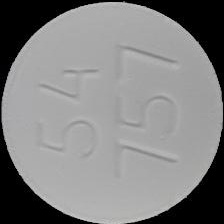0054-0044: (0, 0, 224, 224)
